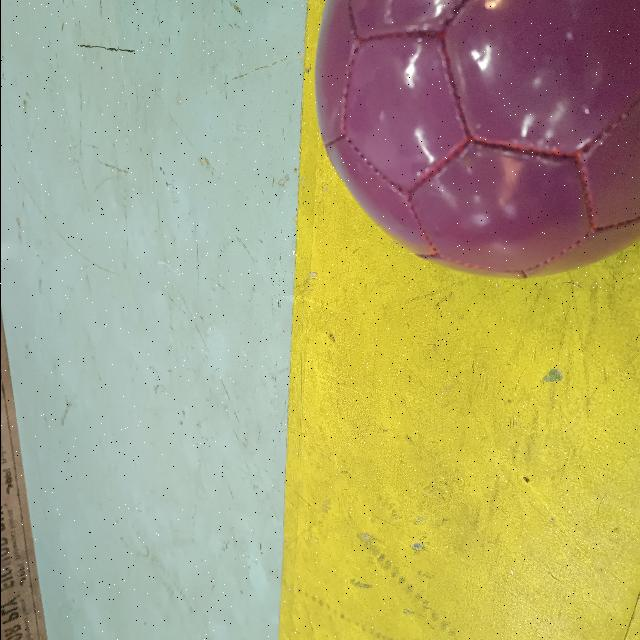P: (308, 0, 640, 286)
